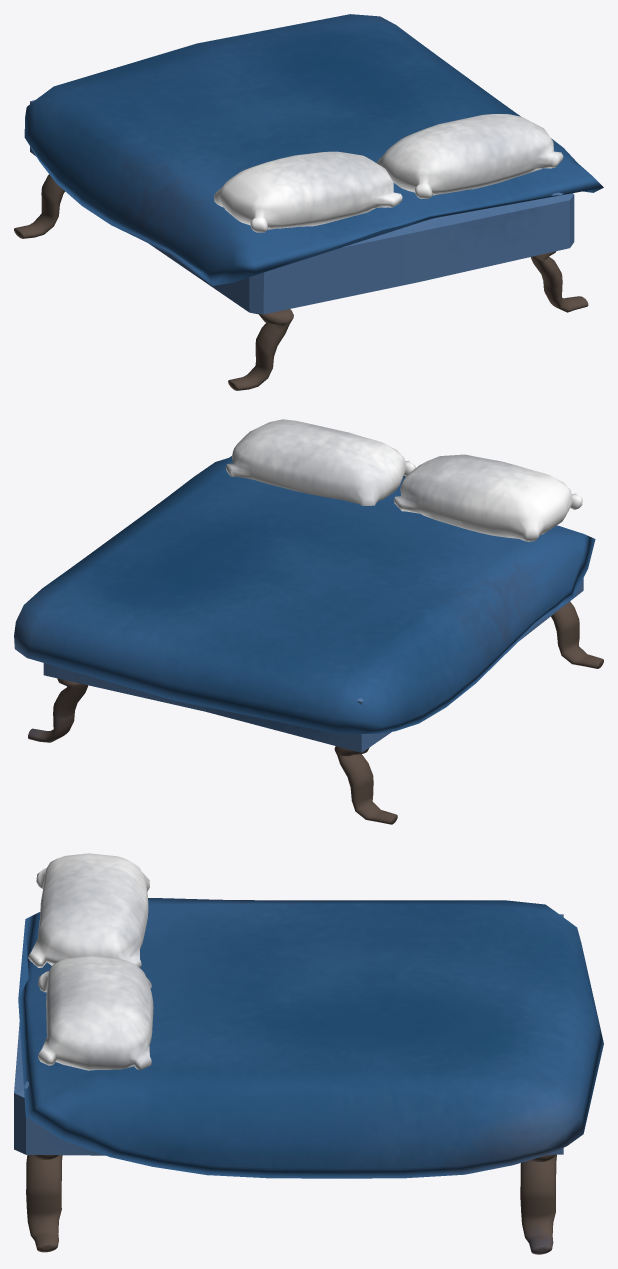
The model's file is bed.fbx.
3 renders of one model, top to bottom at view 1: azimuth 30°, elevation 25°; view 2: azimuth 150°, elevation 25°; view 3: azimuth 270°, elevation 25°, orthographic. The views are drawn at different scales.
Visible parts, largest first — view 1: polySurface479; view 2: polySurface479; view 3: polySurface479.
Boxes of the visible parts, x1,y1,x2,y2 form: polySurface479: [14, 14, 603, 390]; polySurface479: [14, 419, 603, 824]; polySurface479: [14, 853, 603, 1254].
Size of the model in its own units: 2.14 by 1.04 by 2.46.
1 material, 1 textured.
